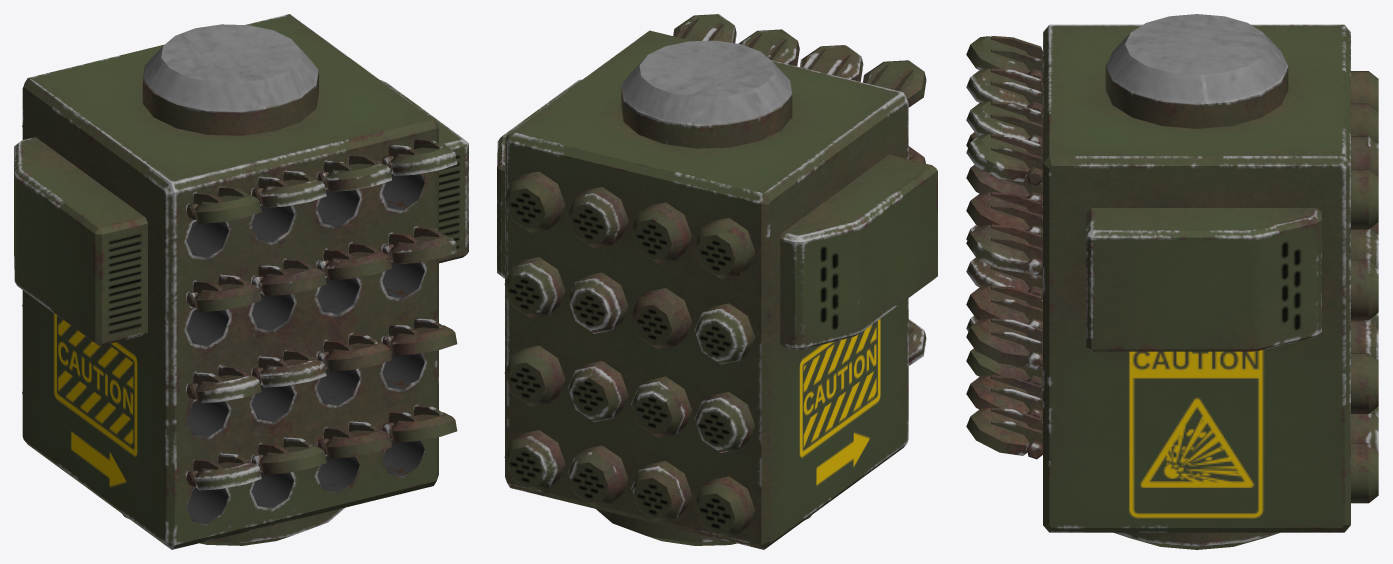
The model's file is SM_BatteryRocketLauncher.fbx.
The picture shows the model from 3 angles, left to right: view 1: azimuth 30°, elevation 25°; view 2: azimuth 150°, elevation 25°; view 3: azimuth 270°, elevation 25°; orthographic projection. The views are drawn at different scales.
Visible parts, largest first — view 1: SM_BatteryRocketLauncher; view 2: SM_BatteryRocketLauncher; view 3: SM_BatteryRocketLauncher.
Boxes of the visible parts, bbox=[...] form: SM_BatteryRocketLauncher: bbox=[14, 14, 468, 549]; SM_BatteryRocketLauncher: bbox=[497, 14, 937, 549]; SM_BatteryRocketLauncher: bbox=[966, 14, 1378, 549].
Size of the model in its own units: 76.35 by 88.55 by 71.11.
